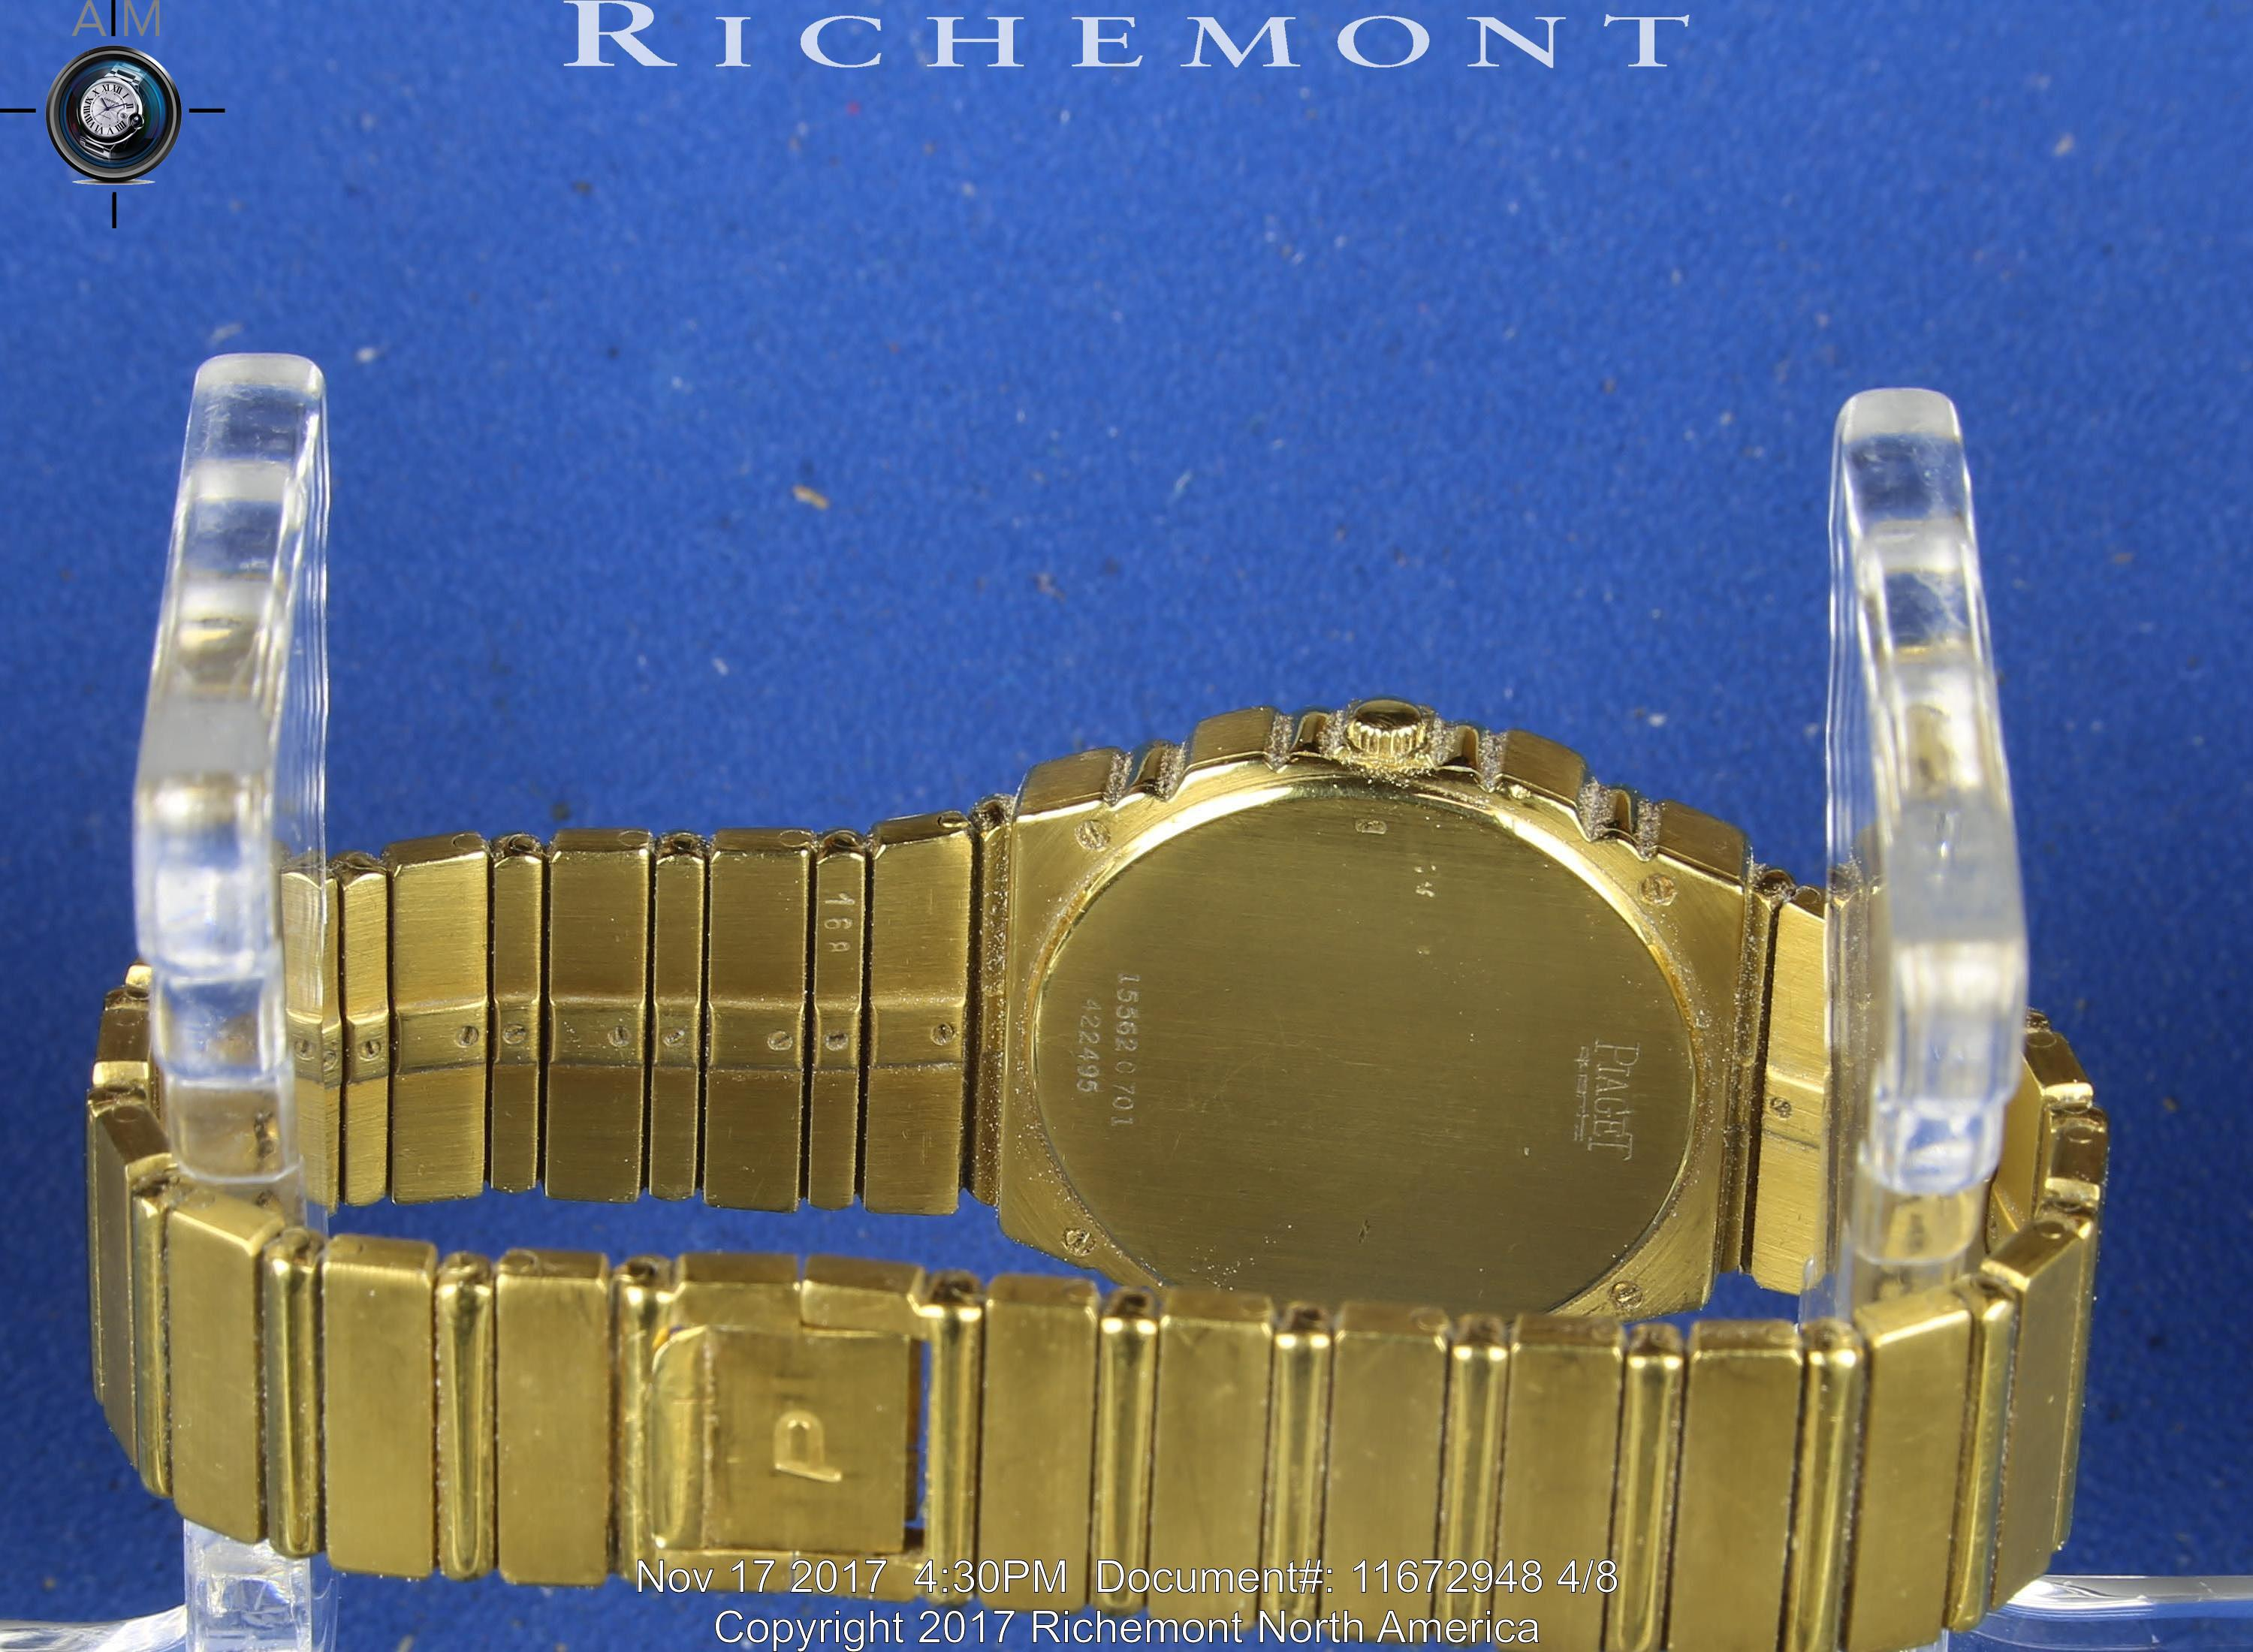Watch BackCase: (1004, 687, 1744, 1297)
